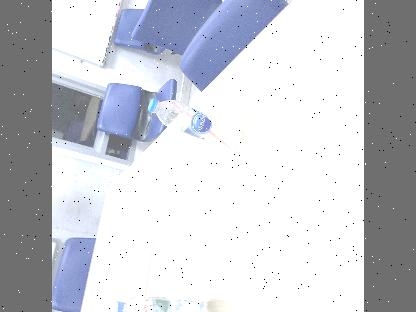Plastic Bottle: (148, 98, 246, 148), (112, 294, 210, 312)
